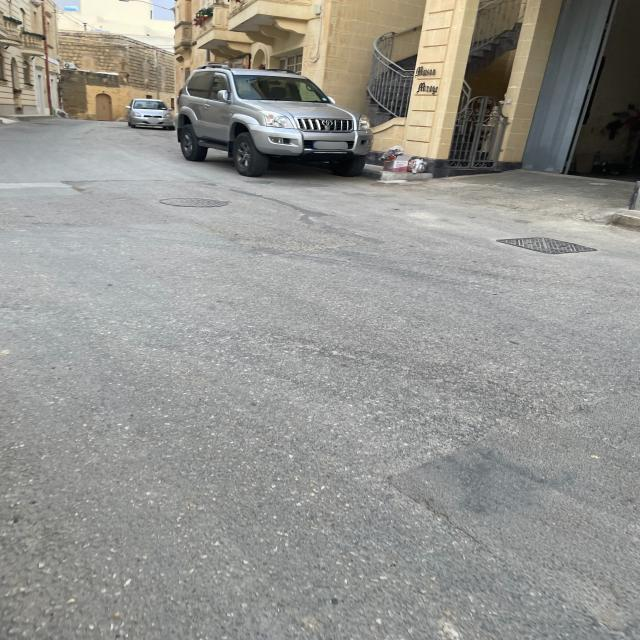grey_bag: (379, 146, 406, 160), (408, 158, 428, 174)
other_waste: (383, 159, 408, 173)
